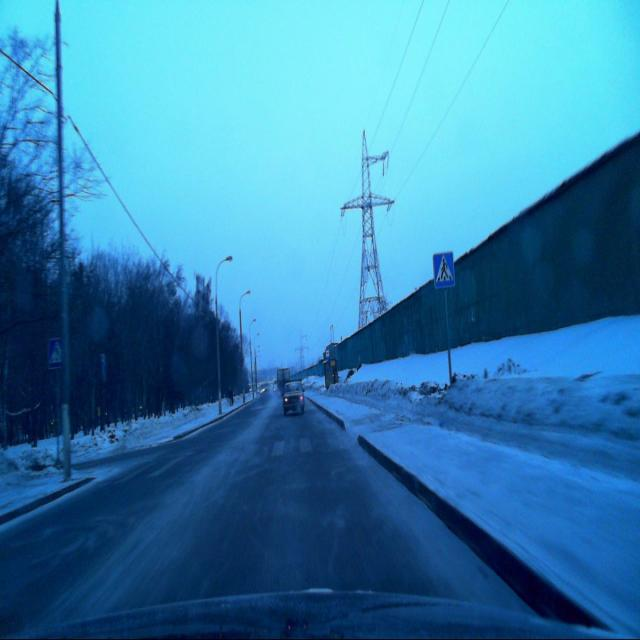object: (445, 297, 453, 388)
road sign: (432, 252, 455, 291), (46, 336, 63, 367)
